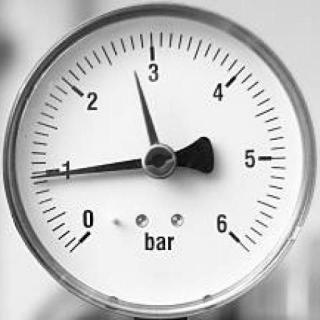gauge: (0, 0, 320, 320), (209, 210, 254, 258), (67, 207, 107, 258), (140, 141, 178, 181), (27, 170, 46, 183), (128, 66, 142, 83)
